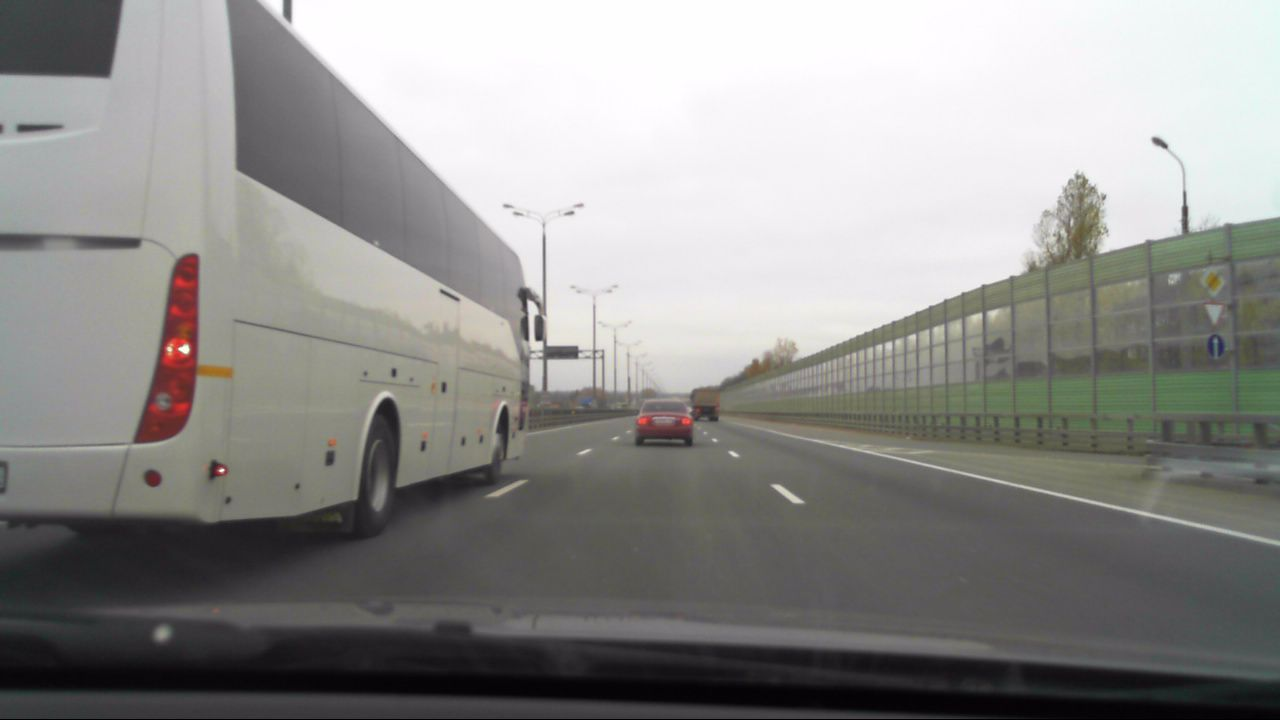main road: (1198, 267, 1228, 297)
